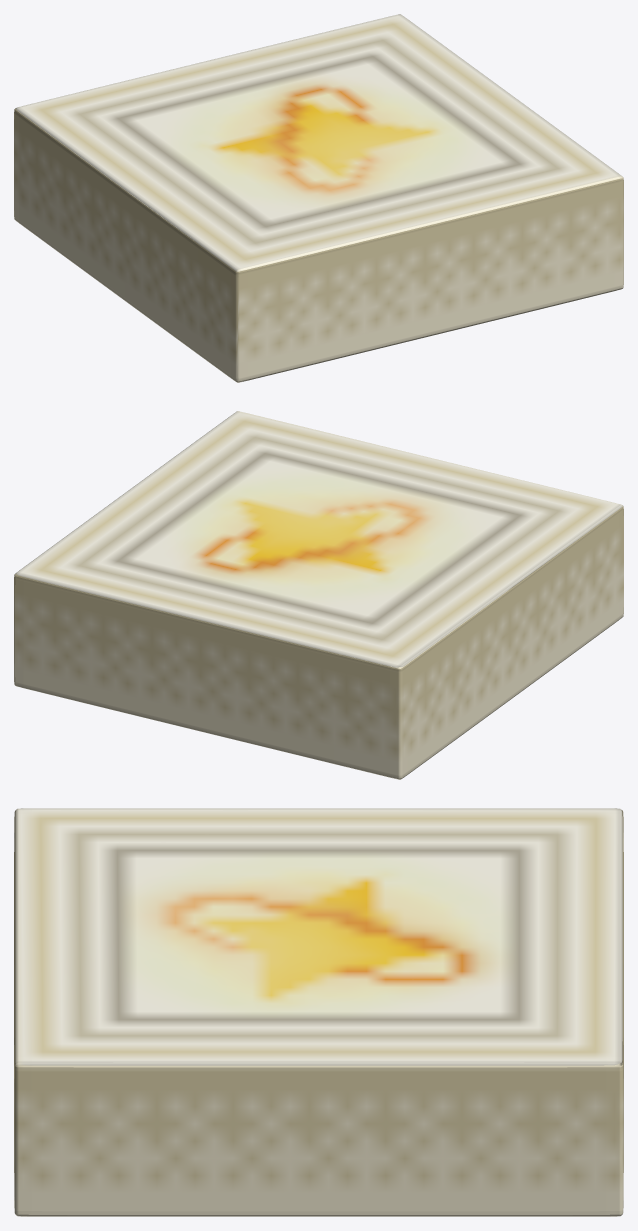
The model's file is PixelTileHope.fbx.
3 renders of one model, top to bottom at view 1: azimuth 30°, elevation 25°; view 2: azimuth 150°, elevation 25°; view 3: azimuth 270°, elevation 25°, orthographic. The views are drawn at different scales.
Parts seen in each view (by area): view 1: PixelBasic; view 2: PixelBasic; view 3: PixelBasic.
Boxes of the visible parts, bbox=[...] form: PixelBasic: bbox=[14, 14, 623, 382]; PixelBasic: bbox=[14, 411, 623, 779]; PixelBasic: bbox=[14, 808, 623, 1216].
Bounding box in the file's own units: 99.99 × 28.04 × 99.99.
Materials: 1 (1 with a texture image).
